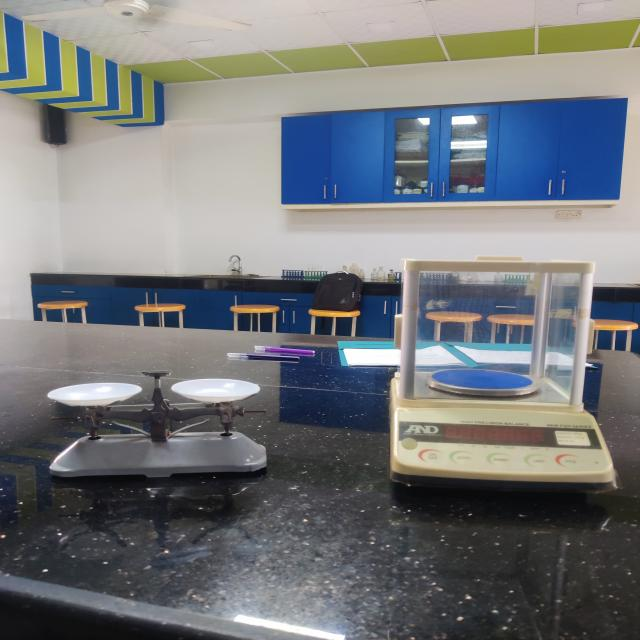Mechanical_Balance_Scale: (26, 349, 302, 524)
Precision_Weight_Scale: (342, 216, 640, 534)
